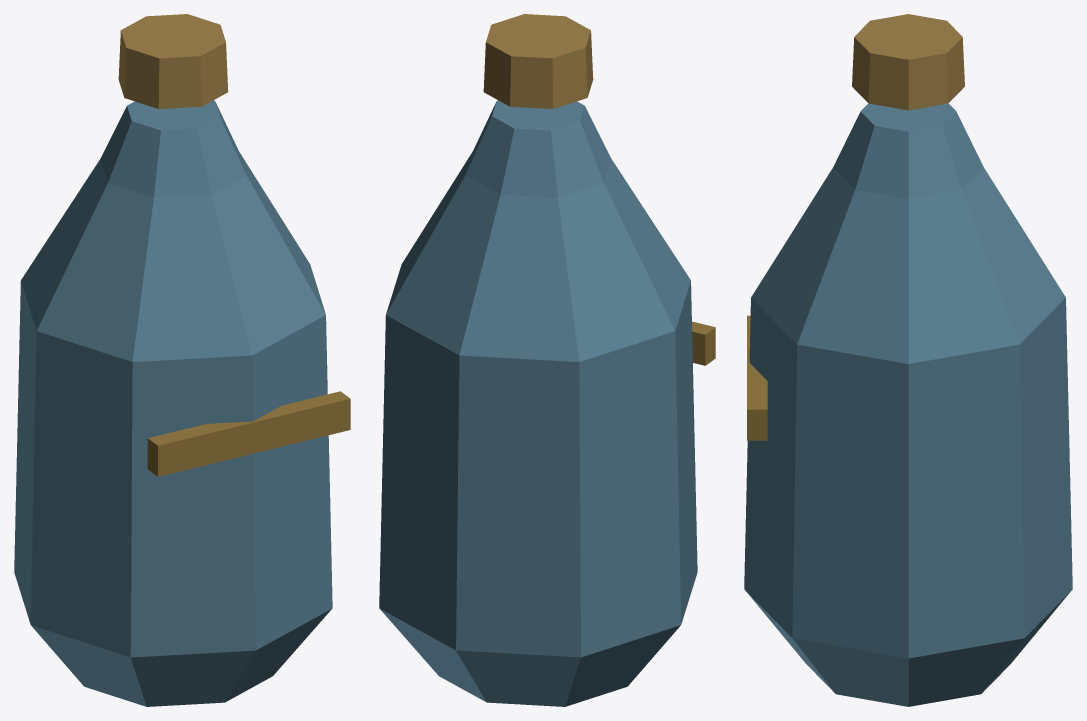
File: hi_ether.obj
3 views of the same model, side by side, from view 1: azimuth 30°, elevation 25°; view 2: azimuth 150°, elevation 25°; view 3: azimuth 270°, elevation 25° (orthographic).
Visible parts, largest first — view 1: hi_ether; view 2: hi_ether; view 3: hi_ether.
Part boxes in pixels (bbox=[...]): hi_ether: bbox=[14, 14, 350, 706]; hi_ether: bbox=[379, 14, 715, 706]; hi_ether: bbox=[744, 14, 1072, 706].
Bounding box in the file's own units: 0.96 × 2.02 × 0.96.
